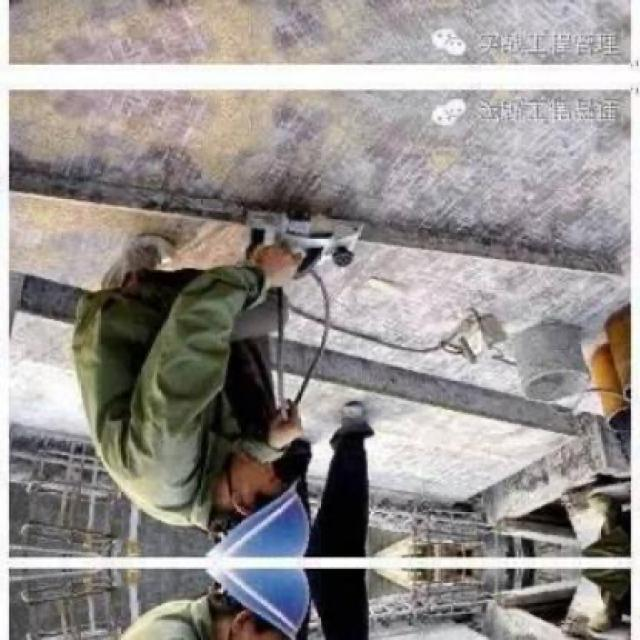con casco: (143, 456, 355, 610)
